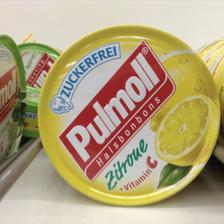Suessigkeit: (36, 24, 222, 206)
